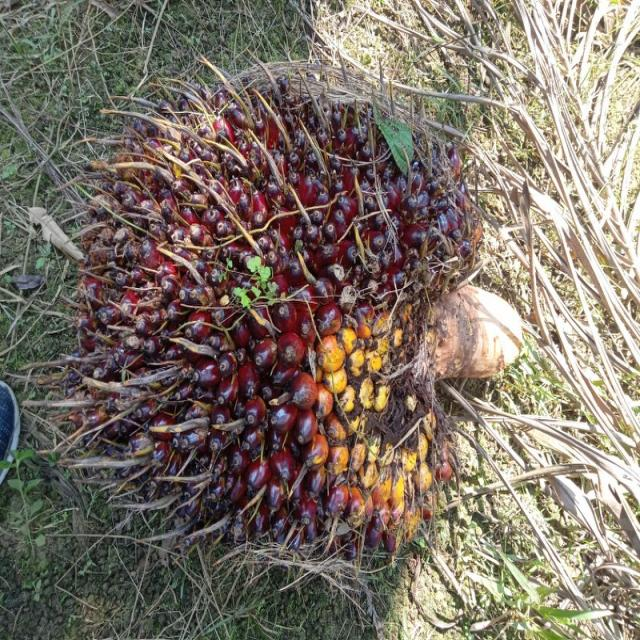fraksi 1: (45, 46, 594, 546)
